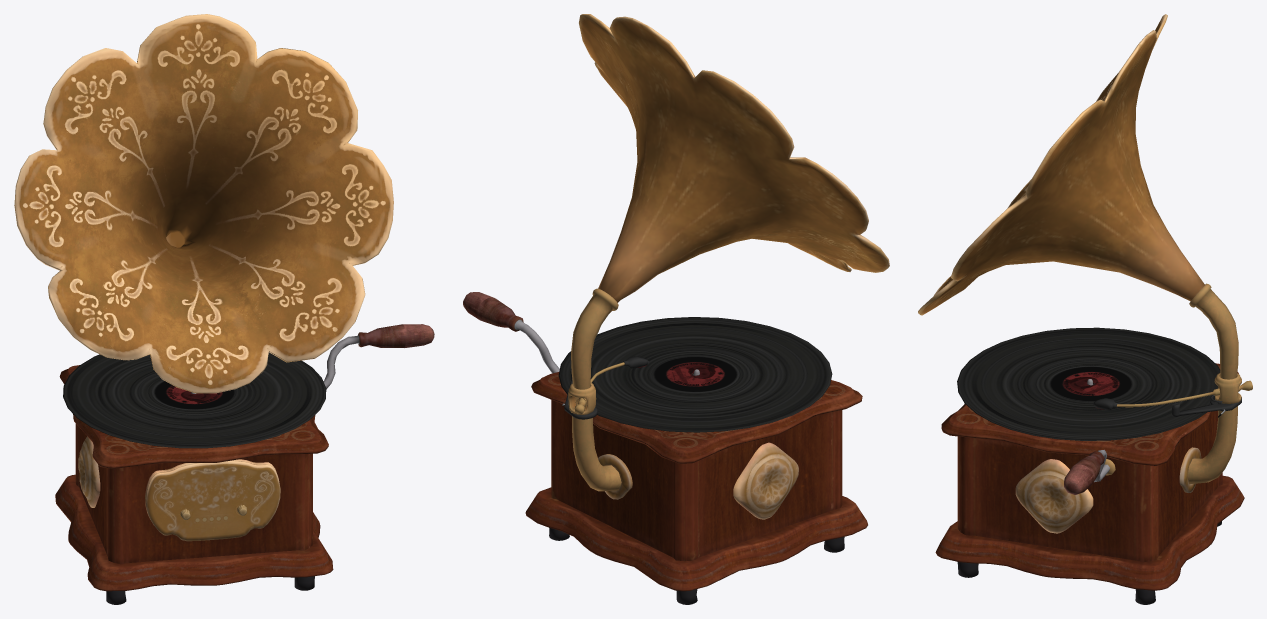
The model's file is vinyl_player.glb.
3 renders of one model, left to right at view 1: azimuth 30°, elevation 25°; view 2: azimuth 150°, elevation 25°; view 3: azimuth 270°, elevation 25°, orthographic. The views are drawn at different scales.
Visible parts, largest first — view 1: Wooden_bot_lp.002, vinyl_lp; view 2: Wooden_bot_lp.002, vinyl_lp; view 3: Wooden_bot_lp.002, vinyl_lp.
Part boxes in pixels (x1,y1,x2,y2): Wooden_bot_lp.002: (14,14,434,604); vinyl_lp: (63,352,326,448); Wooden_bot_lp.002: (463,14,889,604); vinyl_lp: (558,317,832,432); Wooden_bot_lp.002: (918,14,1252,604); vinyl_lp: (957,327,1220,440).
Bounding box in the file's own units: 0.8823 × 1.08 × 0.6267.
Materials: 2 (2 with a texture image).
